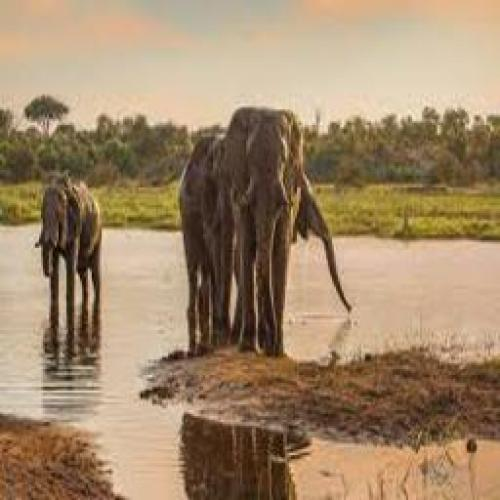african_elephant-endangered: (174, 127, 361, 357), (220, 98, 306, 368), (31, 170, 113, 342)
